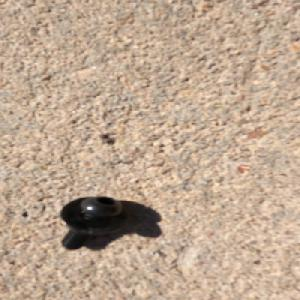BoltWasher: (58, 194, 129, 250)
